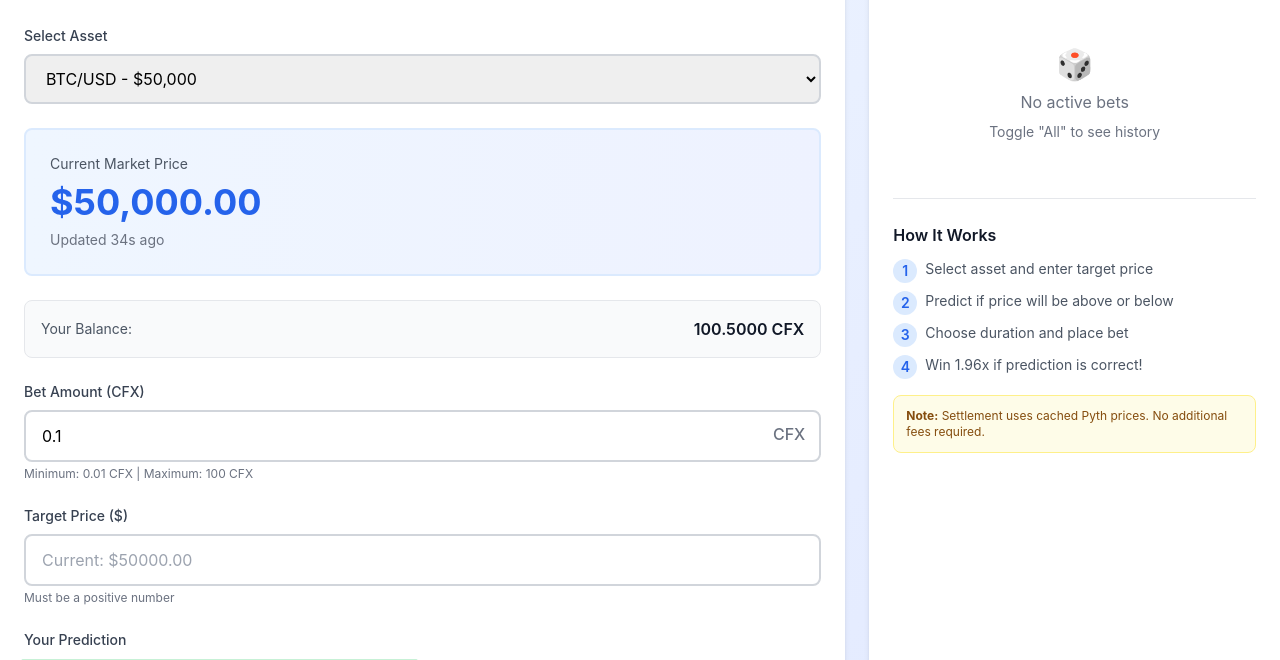
it: BettingInterface Component › Bet Summary › shows summary when target price is entered
Type "55000" into the number field with placeholder "Current: $50000.00" at (423, 560), box [24,534,821,586]
(page scrolled)
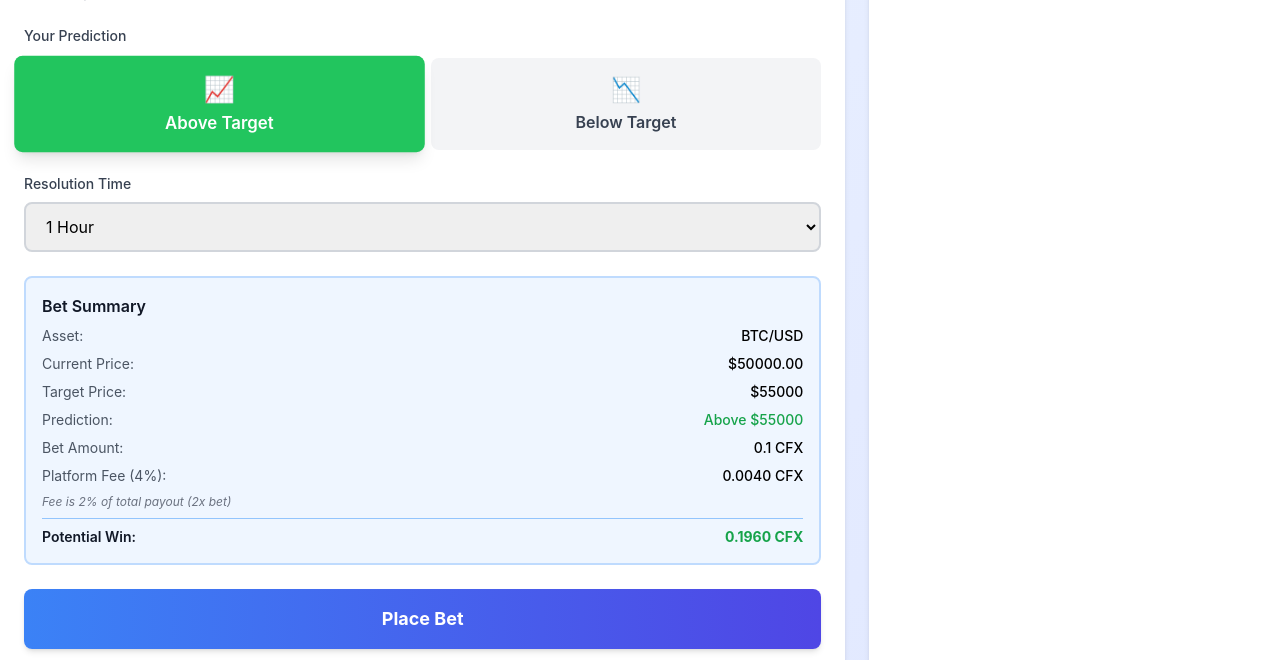
Expected: the heading "Bet Summary" is shown, [42,296,146,316]
